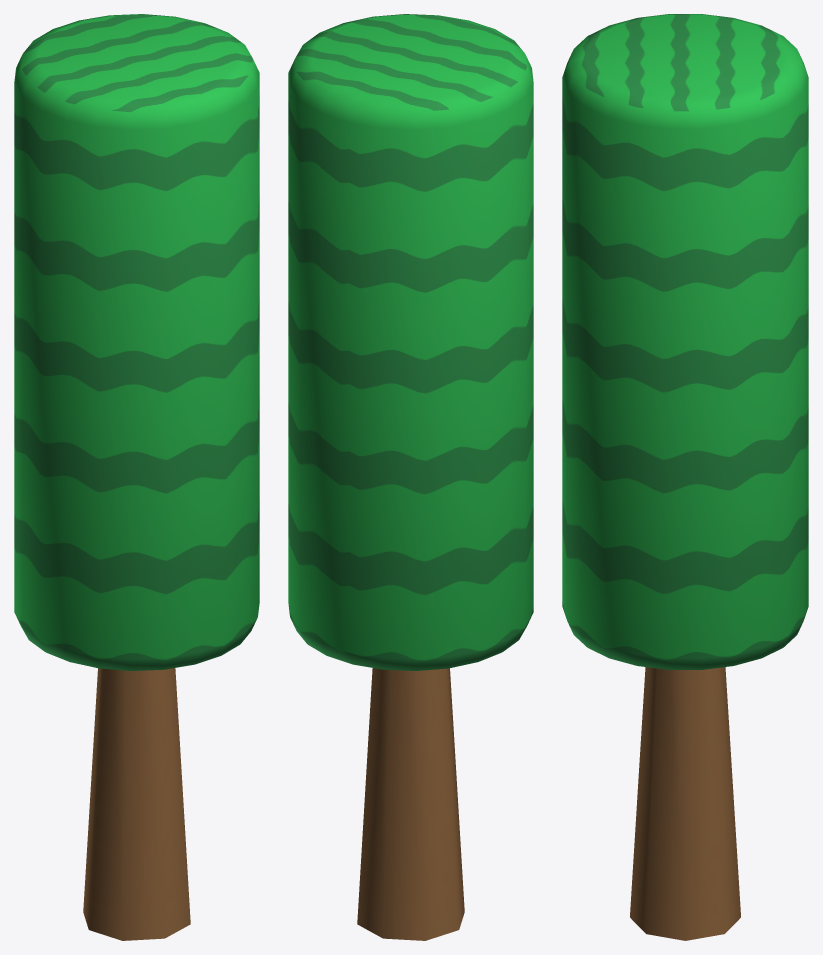
The model's file is Tree 3.fbx.
3 renders of one model, left to right at view 1: azimuth 30°, elevation 25°; view 2: azimuth 150°, elevation 25°; view 3: azimuth 270°, elevation 25°, orthographic.
Parts seen in each view (by area): view 1: Tree 3; view 2: Tree 3; view 3: Tree 3.
Boxes of the visible parts, <box> form: Tree 3: <box>14,14,259,940</box>; Tree 3: <box>288,14,533,940</box>; Tree 3: <box>562,14,808,940</box>.
Size of the model in its own units: 0.6139 by 2.39 by 0.6202.
